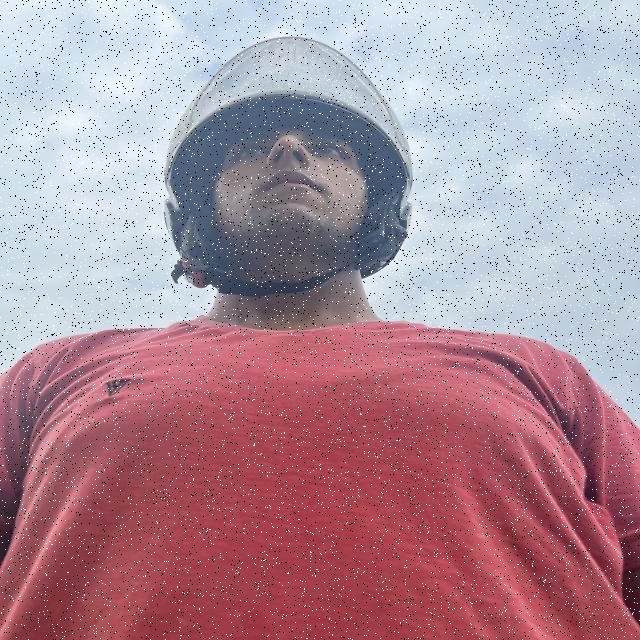Helmet: (165, 38, 412, 298)
